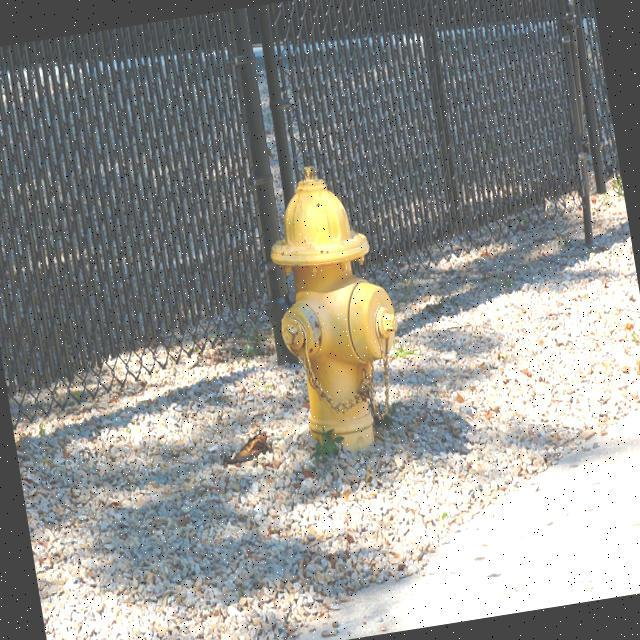fire_hydrant: (250, 154, 416, 462)
